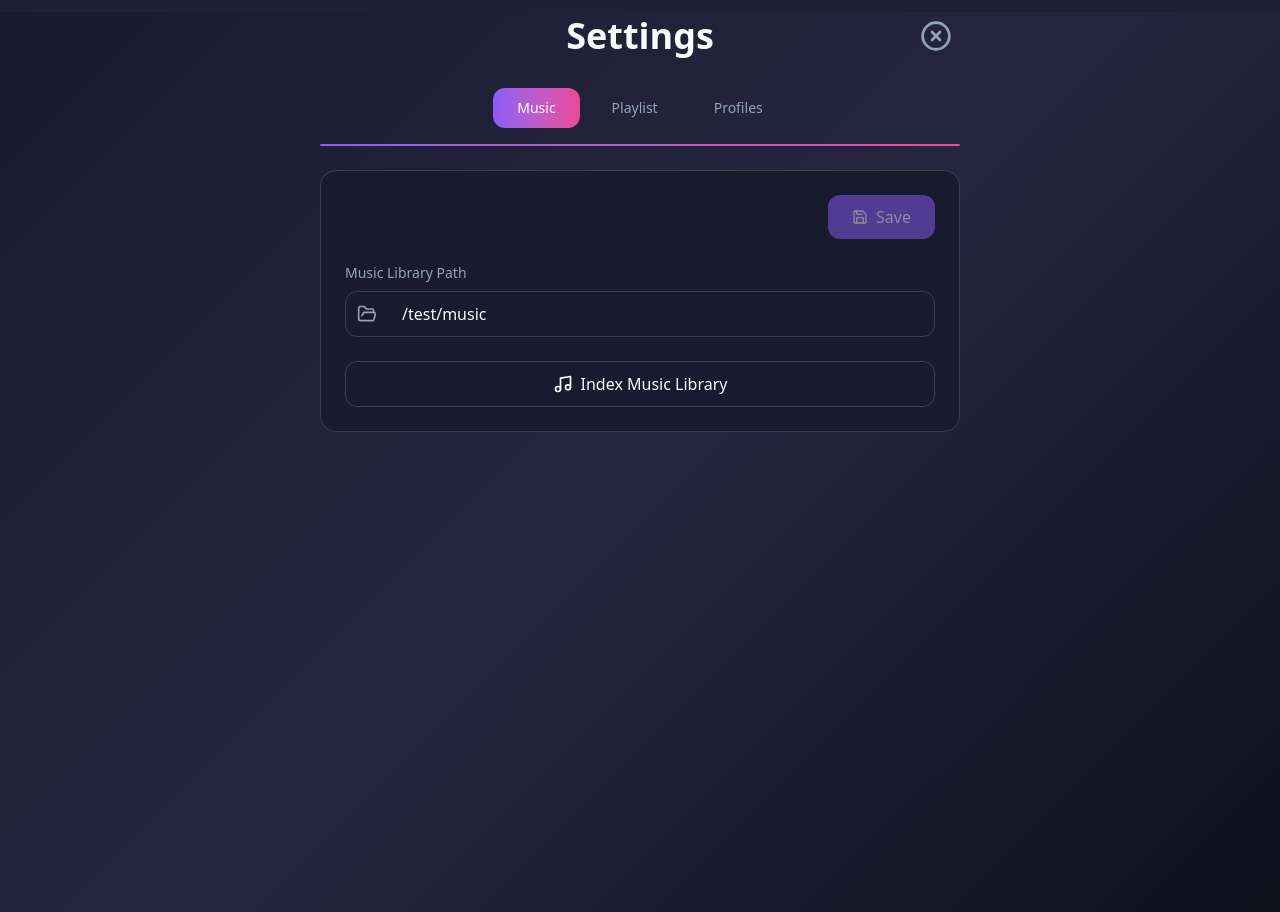
Test case: ConfigScreen › switches to Playlist tab when tab button is clicked
This screenshot has width=1280, height=912.
Click the button "Playlist" at {"x": 635, "y": 108}, box [588, 88, 682, 128]
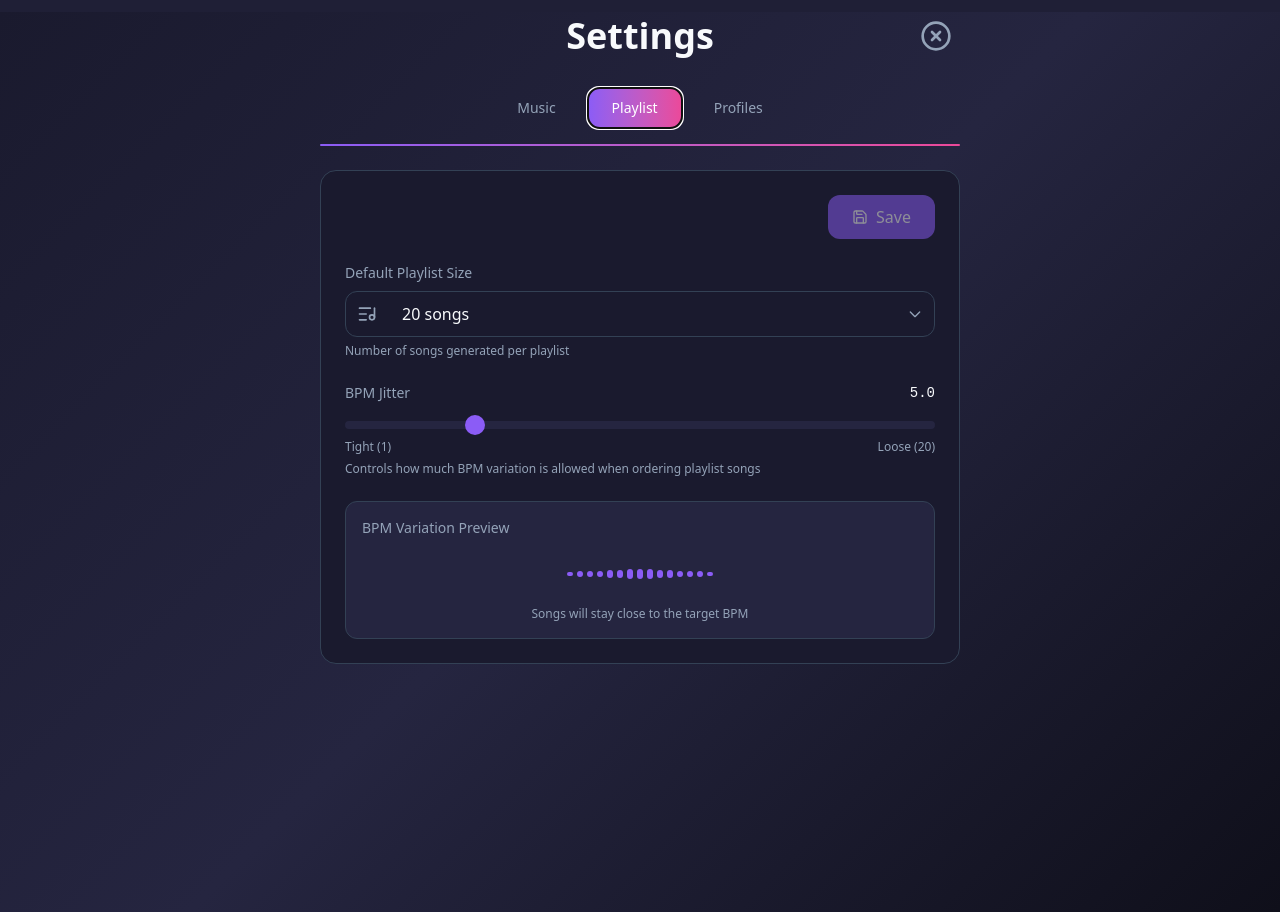
Expected: the dropdown labelled "Default Playlist Size" is shown, [345, 291, 935, 337]
